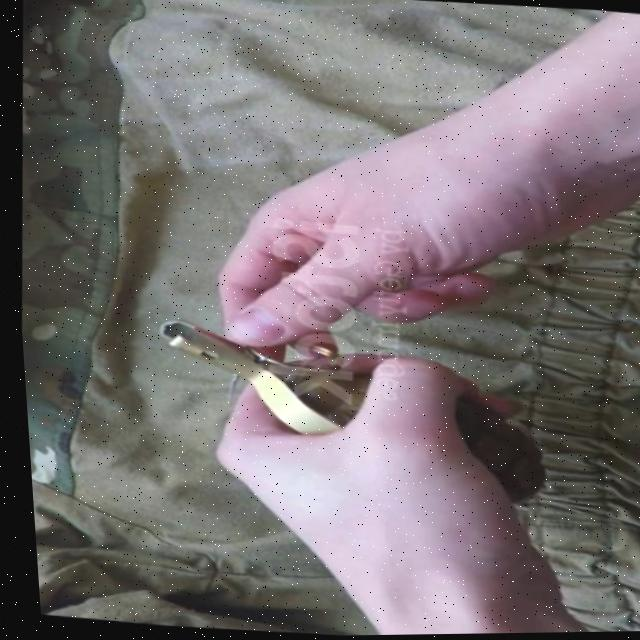grenade: (135, 312, 557, 518)
